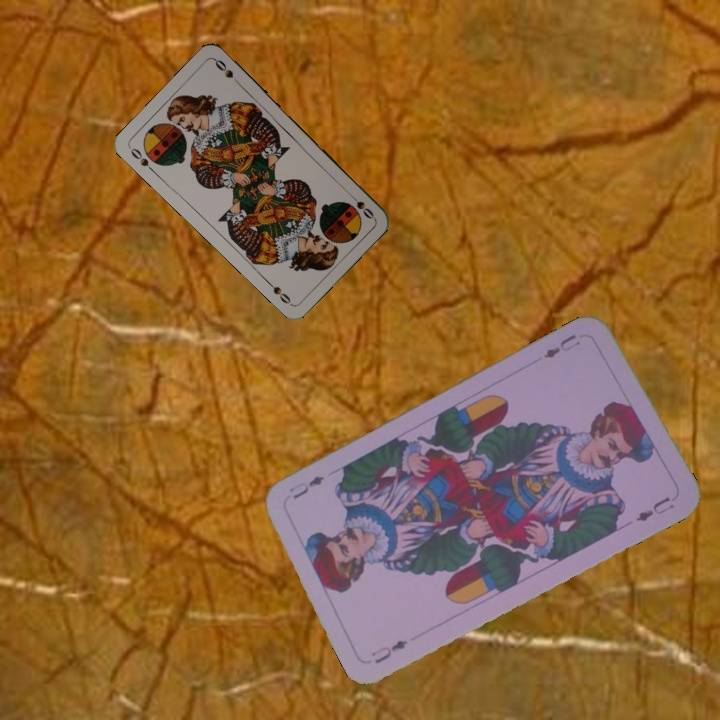EU: (539, 330, 583, 361), (367, 636, 410, 667)
SO: (344, 189, 376, 222), (125, 144, 158, 176)
